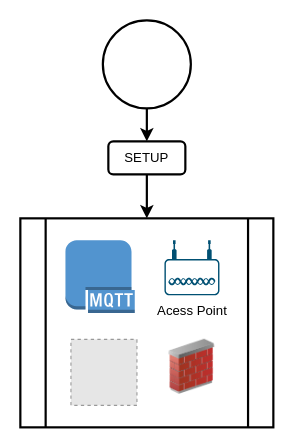
The diagram is 293 pixels wide and 447 high, and some of its shapes have lost their labels. Grey dashed boxes stand in for pictures. The shapes that lost their labels are listed below. From the top down, each one's centre as x and y in pixels, then its label:
At (146,64): "alat di hidupkan".
At (191,366): "Firewall".
